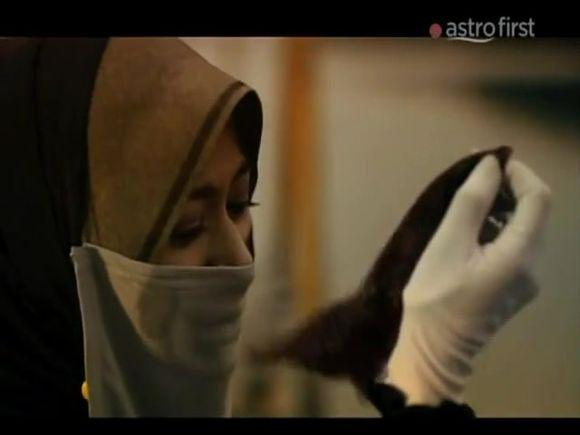WRONG: (128, 164, 264, 361)
